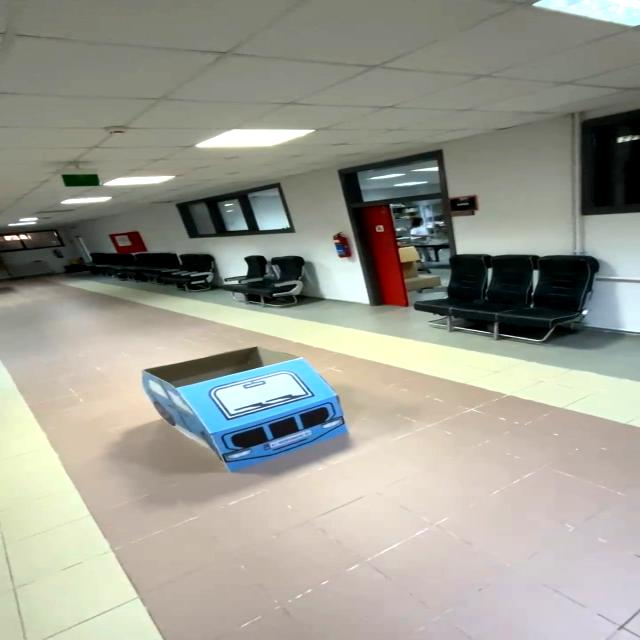blue_car: (119, 338, 394, 488)
